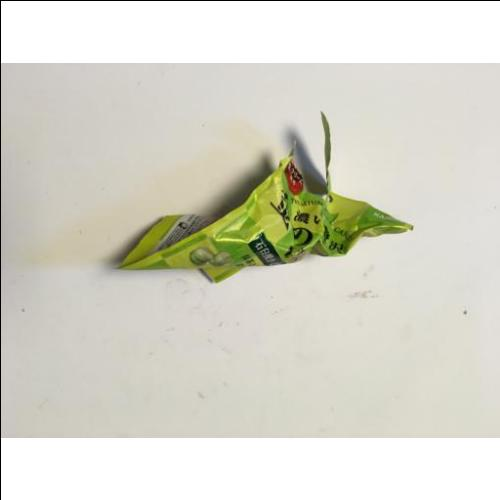plastic: (125, 152, 397, 285)
